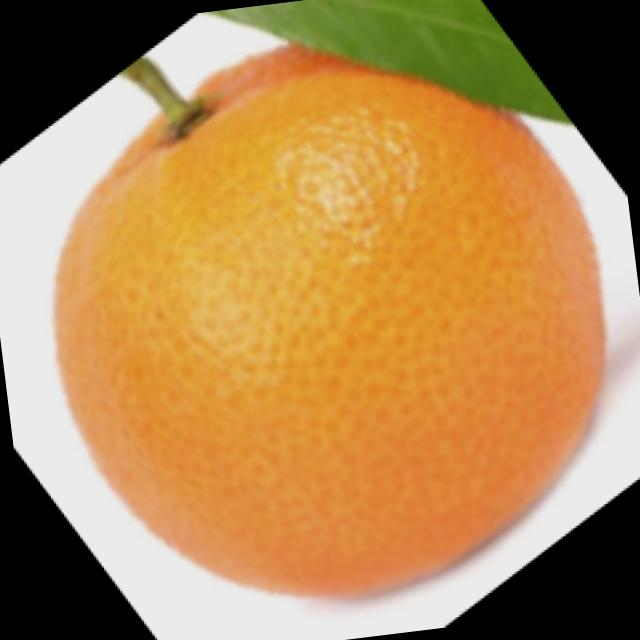orange: (26, 13, 637, 640)
